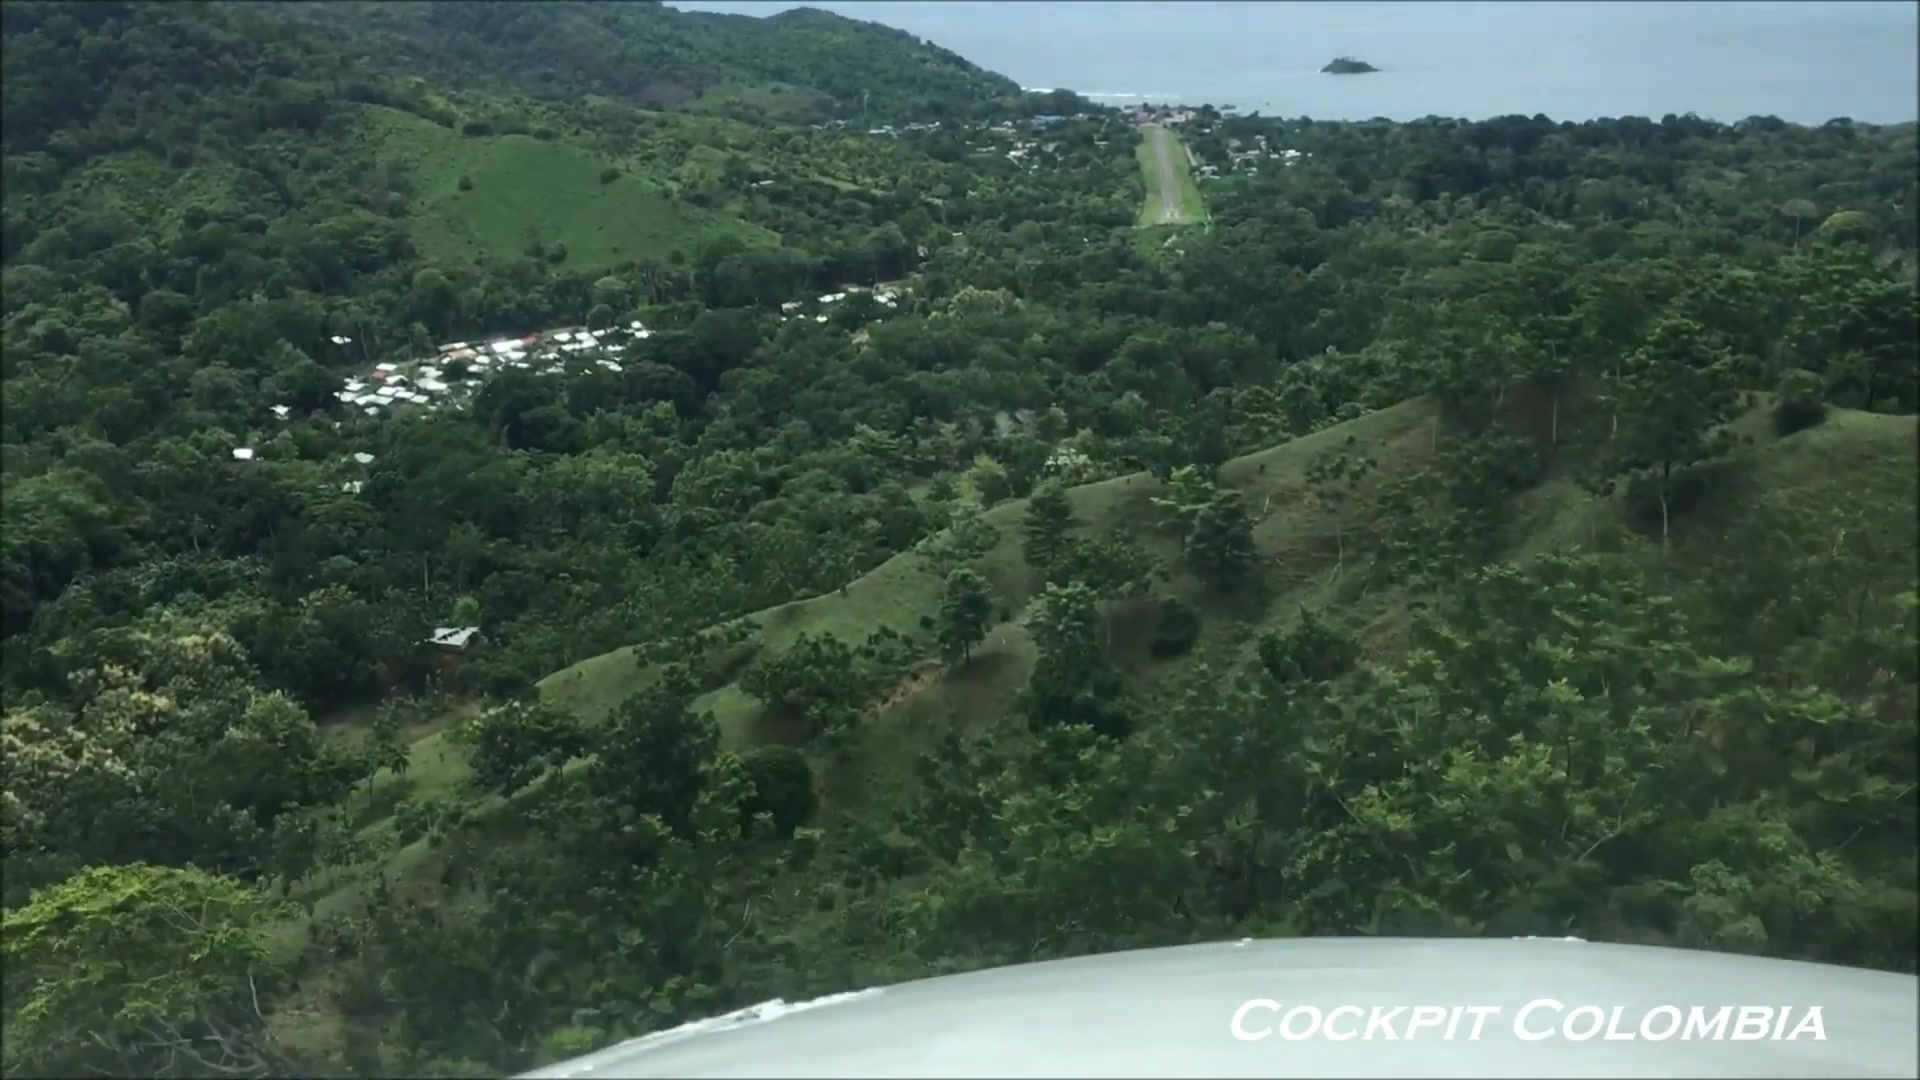runway: (1153, 127, 1182, 222)
